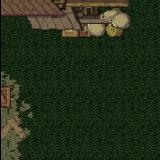Hide: (0, 78, 59, 144)
Obstacle: (0, 0, 160, 58), (0, 58, 35, 160)
